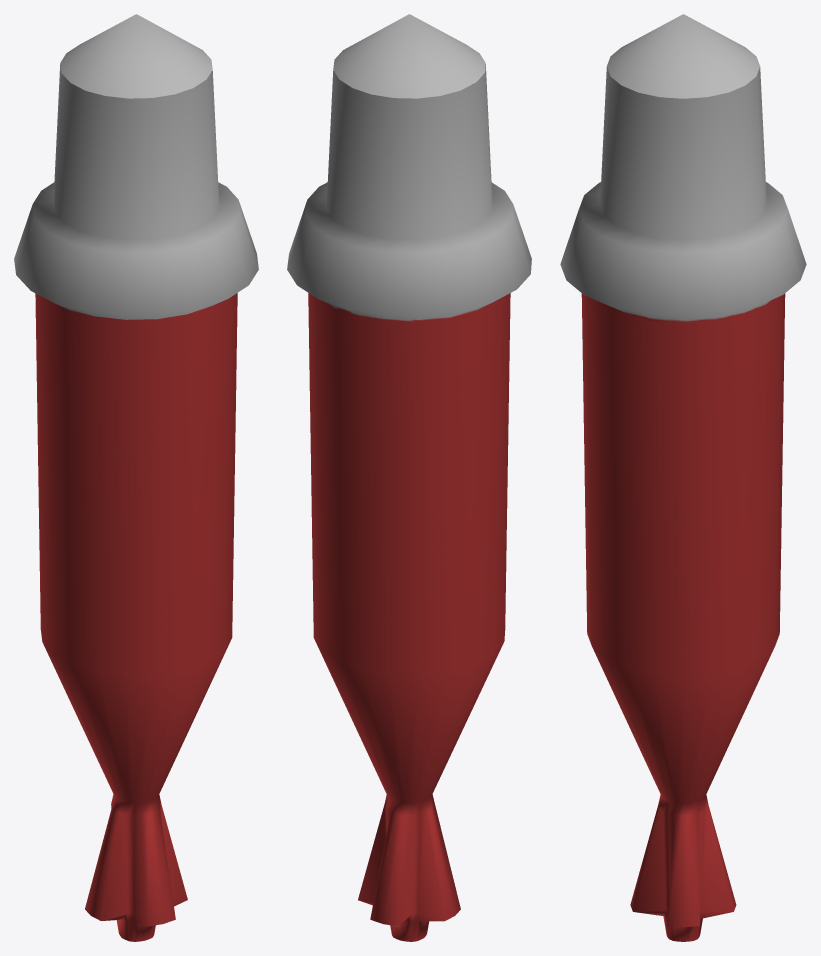
The model's file is Sinalizador.fbx.
3 renders of one model, left to right at view 1: azimuth 30°, elevation 25°; view 2: azimuth 150°, elevation 25°; view 3: azimuth 270°, elevation 25°, orthographic.
Parts seen in each view (by area): view 1: pCylinder1; view 2: pCylinder1; view 3: pCylinder1.
Boxes of the visible parts, left/top/right/bottom form: pCylinder1: left=14, top=14, right=258, bottom=941; pCylinder1: left=287, top=14, right=531, bottom=941; pCylinder1: left=560, top=14, right=806, bottom=941.
Bounding box in the file's own units: 30.52 × 126 × 30.52.
